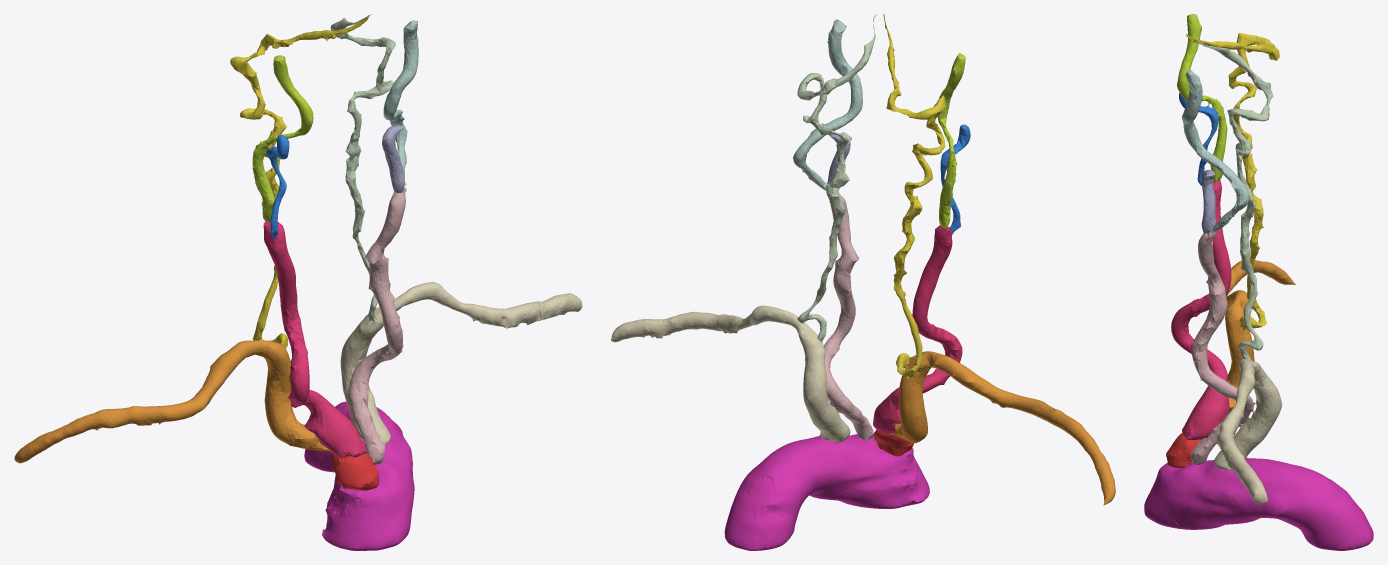
The model's file is head-arteries.glb.
3 renders of one model, left to right at view 1: azimuth 30°, elevation 25°; view 2: azimuth 150°, elevation 25°; view 3: azimuth 270°, elevation 25°, orthographic. The views are drawn at different scales.
Parts seen in each view (by area): view 1: Model 103 right subclavian artery, Model 115 arch of aorta, Model 101 right common carotid, Model 104 left subclavian artery, Model 102 left common carotid, Model 105 right vertebral artery, Model 106 left vertebral artery, Model 107 right internal carotid, Model 108 left internal carotid, Model 116 brachiocephalic trunk, Model 111 right external carotid, Model 112 left external carotid; view 2: Model 115 arch of aorta, Model 104 left subclavian artery, Model 103 right subclavian artery, Model 105 right vertebral artery, Model 101 right common carotid, Model 102 left common carotid, Model 106 left vertebral artery, Model 108 left internal carotid, Model 107 right internal carotid, Model 111 right external carotid, Model 116 brachiocephalic trunk; view 3: Model 115 arch of aorta, Model 104 left subclavian artery, Model 101 right common carotid, Model 102 left common carotid, Model 106 left vertebral artery, Model 105 right vertebral artery, Model 103 right subclavian artery, Model 108 left internal carotid, Model 107 right internal carotid, Model 112 left external carotid, Model 116 brachiocephalic trunk, Model 111 right external carotid.
Boxes of the visible parts, bbox=[...] form: Model 103 right subclavian artery: bbox=[14, 340, 331, 463]; Model 115 arch of aorta: bbox=[304, 401, 414, 550]; Model 101 right common carotid: bbox=[263, 221, 366, 457]; Model 104 left subclavian artery: bbox=[340, 282, 582, 445]; Model 102 left common carotid: bbox=[348, 187, 406, 464]; Model 105 right vertebral artery: bbox=[230, 17, 368, 348]; Model 106 left vertebral artery: bbox=[330, 14, 395, 321]; Model 107 right internal carotid: bbox=[252, 55, 313, 222]; Model 108 left internal carotid: bbox=[383, 20, 418, 185]; Model 116 brachiocephalic trunk: bbox=[331, 452, 378, 490]; Model 111 right external carotid: bbox=[266, 135, 289, 238]; Model 112 left external carotid: bbox=[382, 125, 404, 192]; Model 115 arch of aorta: bbox=[724, 434, 929, 550]; Model 104 left subclavian artery: bbox=[611, 305, 850, 442]; Model 103 right subclavian artery: bbox=[893, 351, 1115, 505]; Model 105 right vertebral artery: bbox=[883, 14, 946, 378]; Model 101 right common carotid: bbox=[873, 225, 962, 434]; Model 102 left common carotid: bbox=[824, 193, 874, 442]; Model 106 left vertebral artery: bbox=[797, 14, 877, 342]; Model 108 left internal carotid: bbox=[793, 19, 862, 190]; Model 107 right internal carotid: bbox=[937, 53, 965, 228]; Model 111 right external carotid: bbox=[940, 124, 970, 234]; Model 116 brachiocephalic trunk: bbox=[873, 429, 913, 456]; Model 115 arch of aorta: bbox=[1144, 458, 1373, 550]; Model 104 left subclavian artery: bbox=[1214, 359, 1282, 504]; Model 101 right common carotid: bbox=[1171, 179, 1231, 439]; Model 102 left common carotid: bbox=[1190, 232, 1255, 464]; Model 106 left vertebral artery: bbox=[1190, 36, 1273, 360]; Model 105 right vertebral artery: bbox=[1186, 33, 1279, 330]; Model 103 right subclavian artery: bbox=[1225, 260, 1295, 413]; Model 108 left internal carotid: bbox=[1182, 70, 1249, 233]; Model 107 right internal carotid: bbox=[1177, 14, 1227, 182]; Model 112 left external carotid: bbox=[1201, 169, 1215, 233]; Model 116 brachiocephalic trunk: bbox=[1166, 432, 1201, 467]; Model 111 right external carotid: bbox=[1179, 92, 1218, 185].
Size of the model in its own units: 233 by 209 by 90.31.
